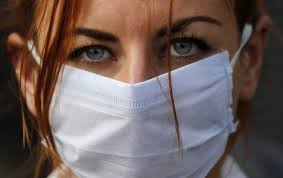with-mask: (16, 4, 262, 178)
